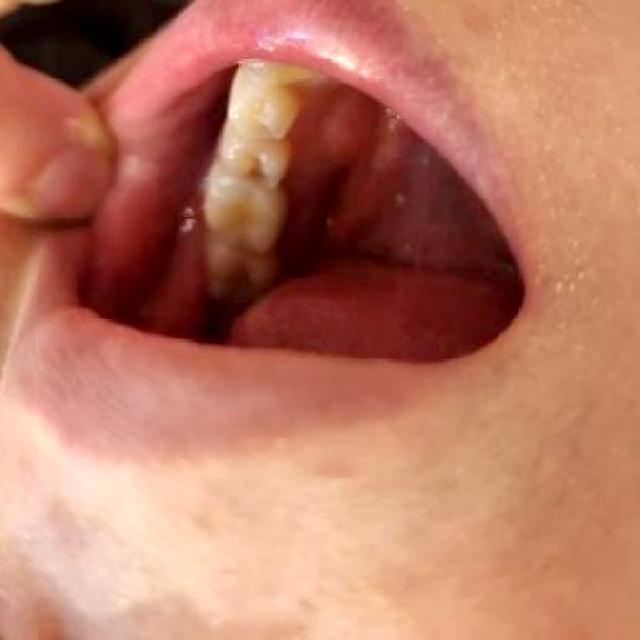Plaque: (240, 163, 273, 185)
